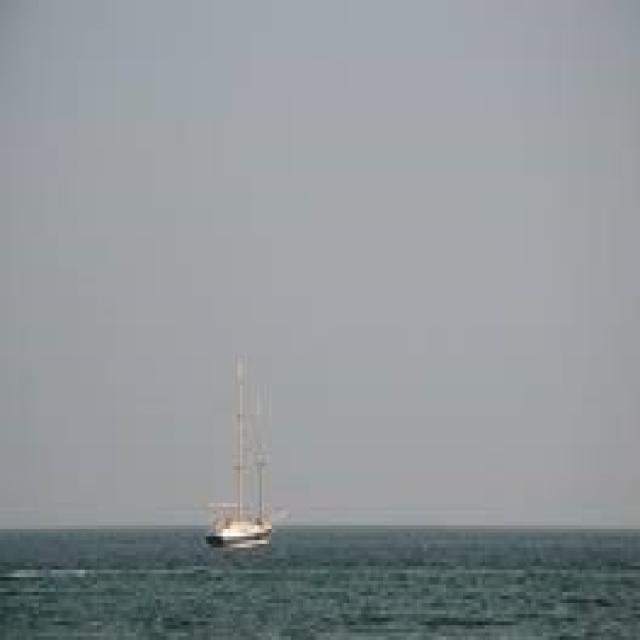fishing boat: (208, 343, 290, 552)
